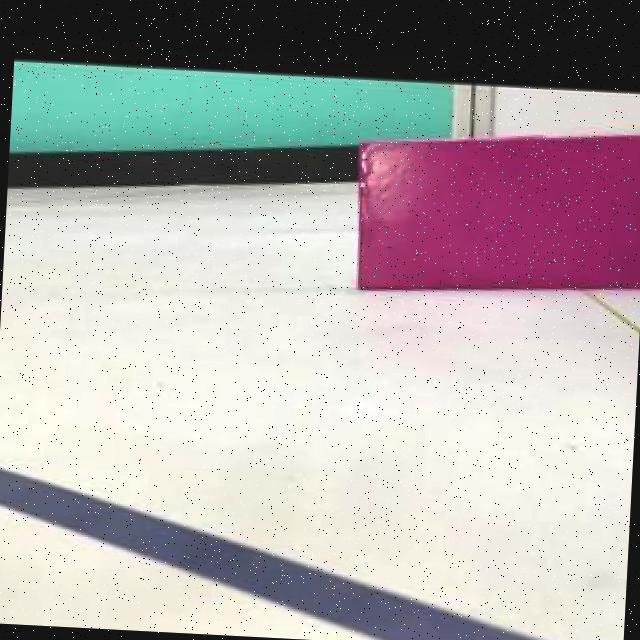xparking: (354, 131, 640, 308)
